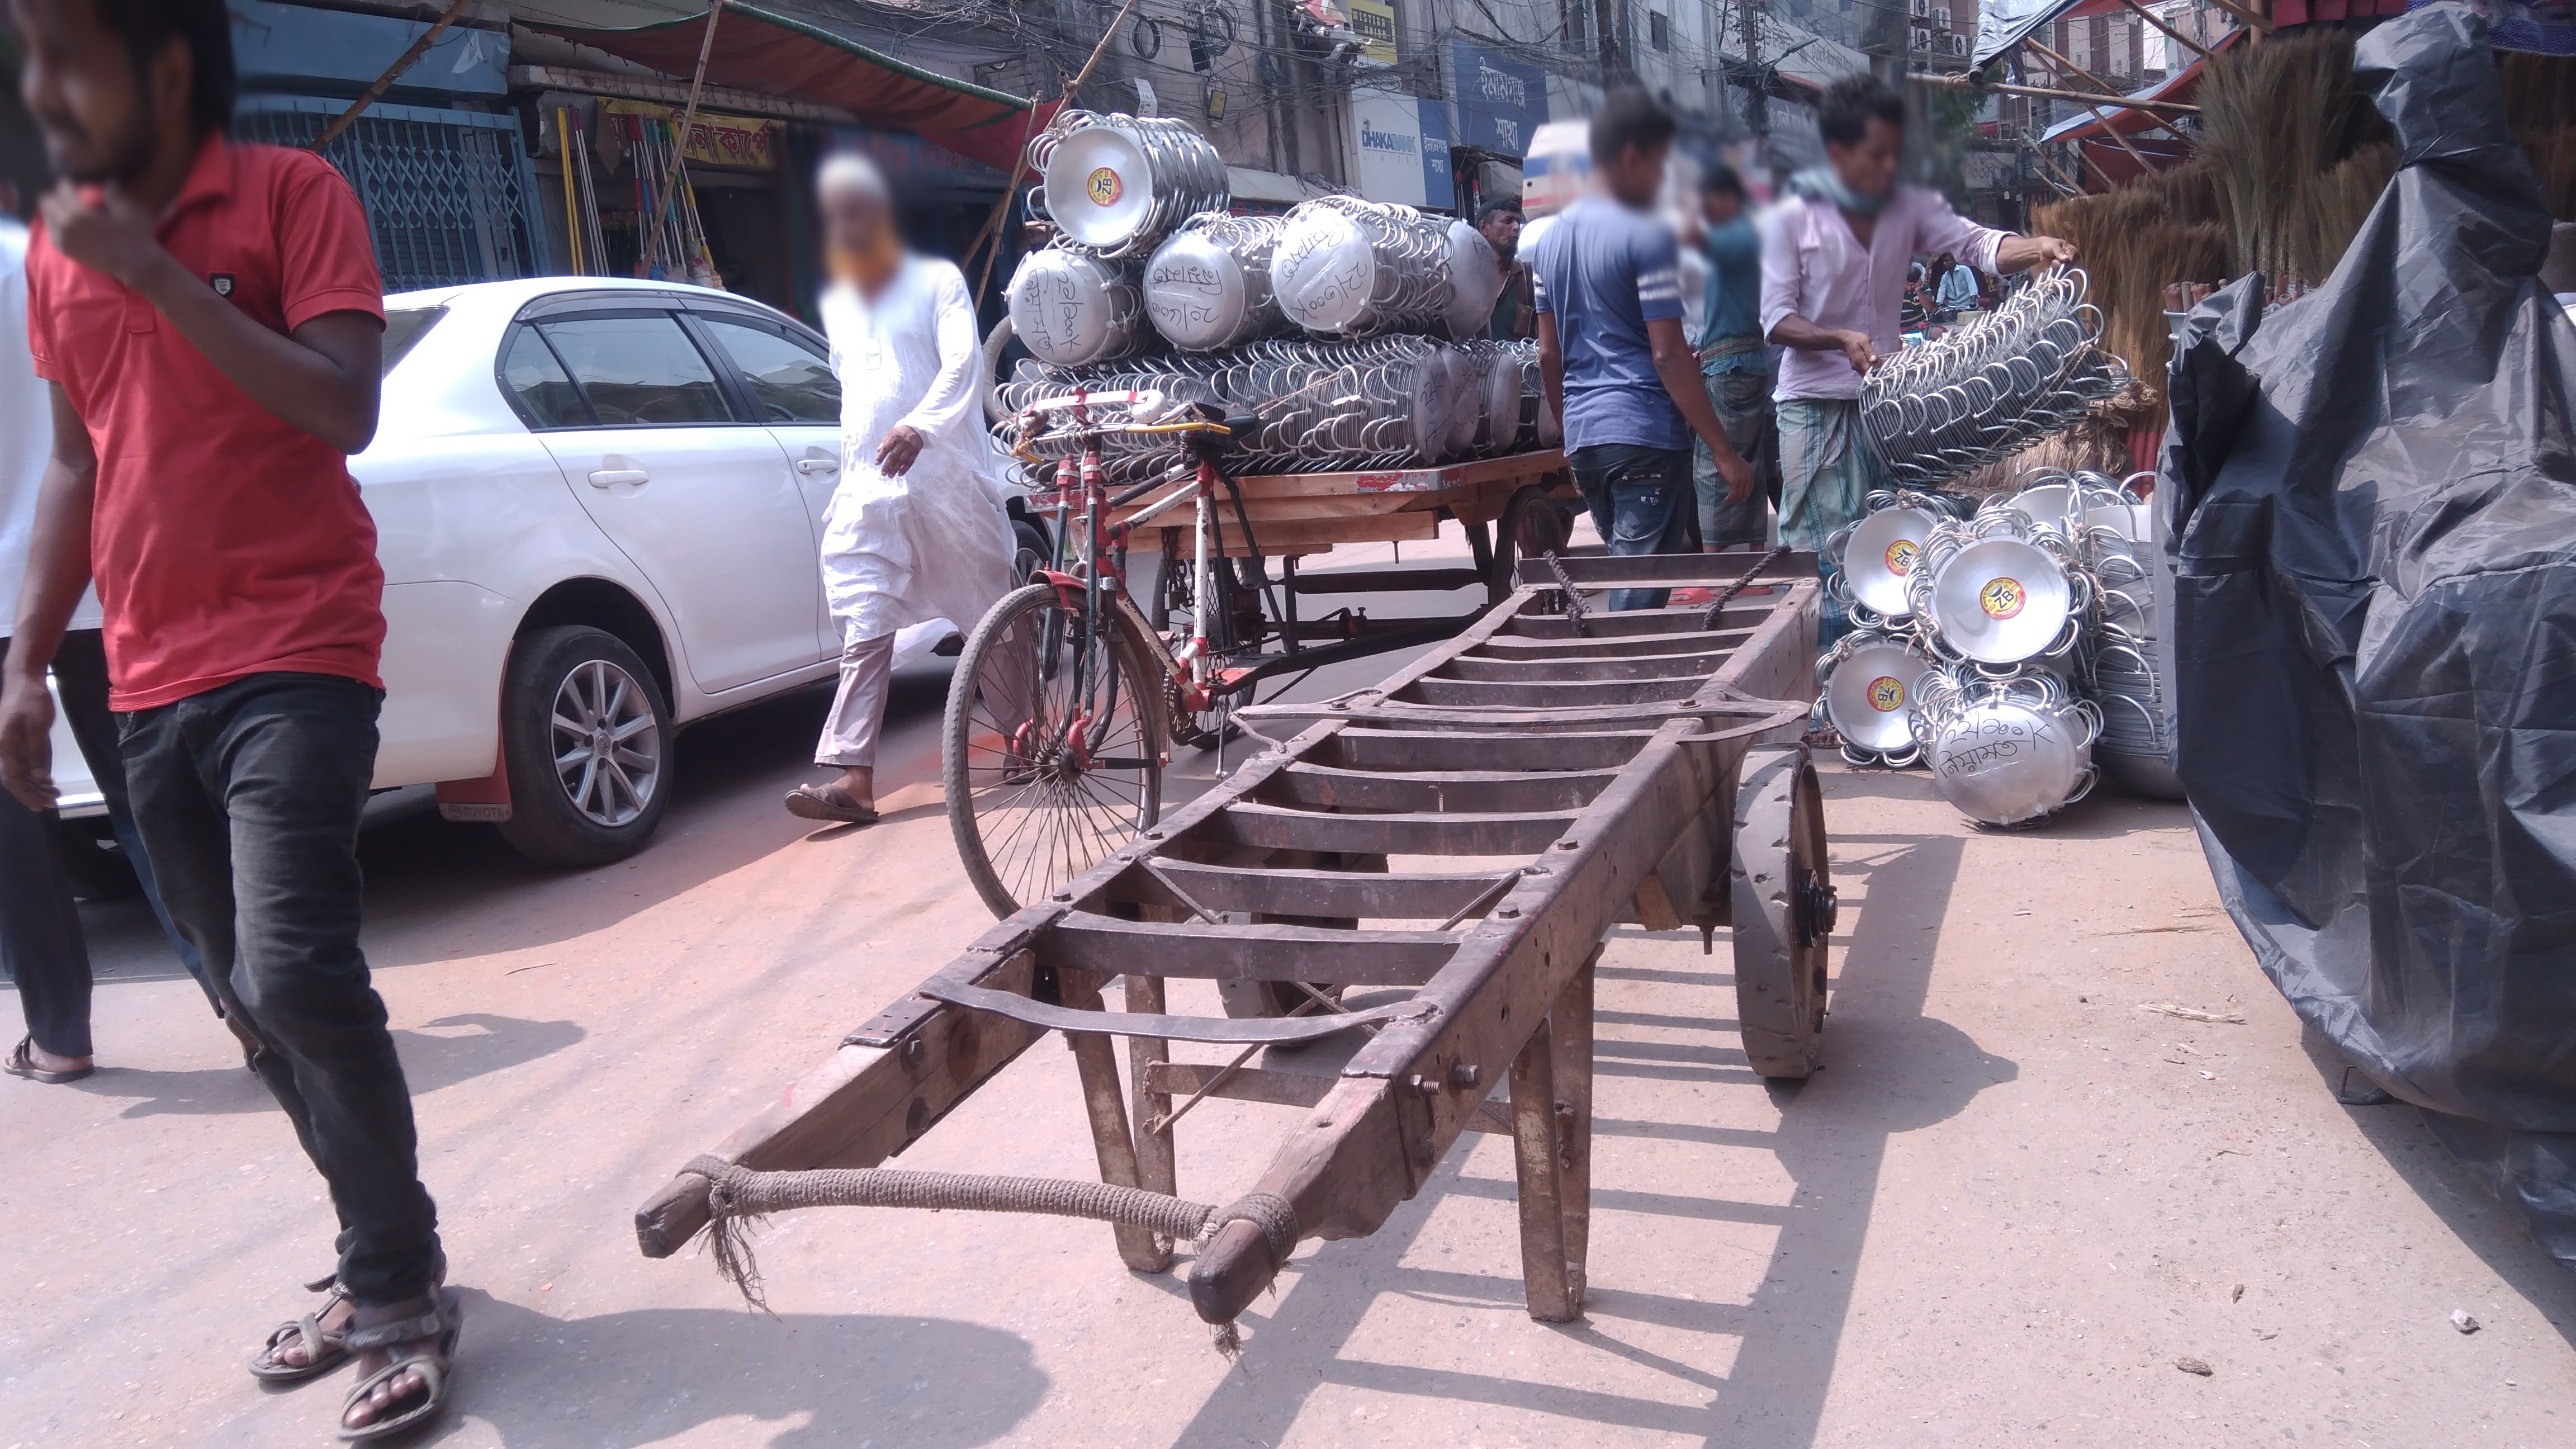car: (55, 278, 1053, 863)
van: (939, 393, 1568, 927)
wheelbarrow: (632, 541, 1844, 1327)
